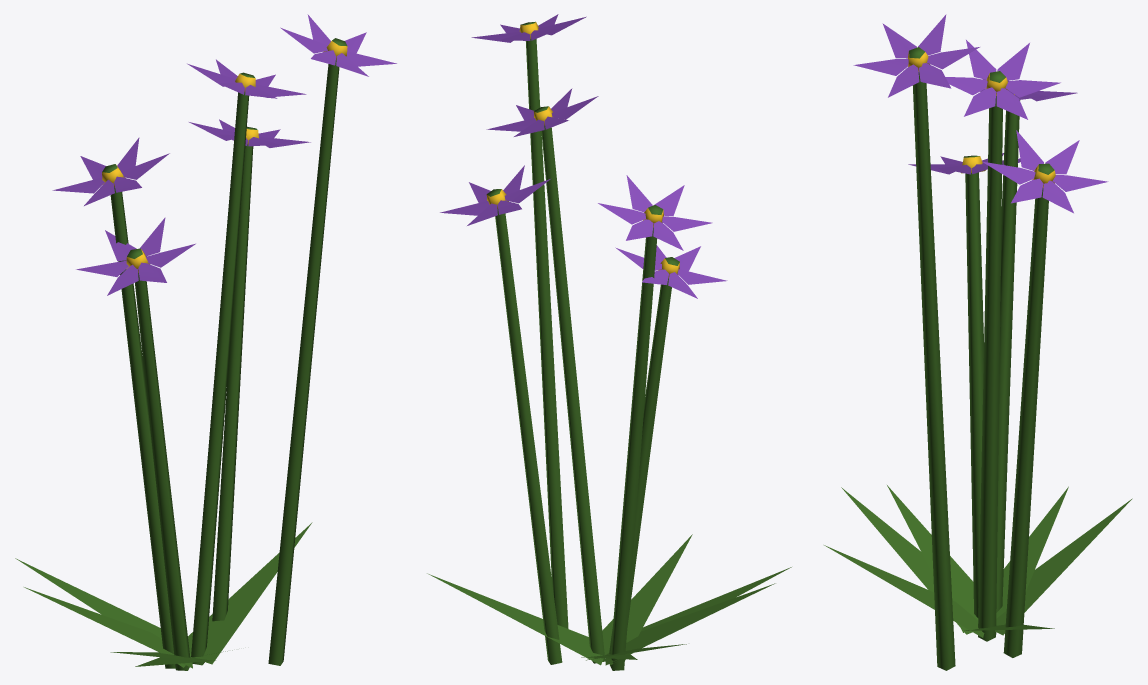
The model's file is n-flowerPurple.glb.
The picture shows the model from 3 angles, left to right: view 1: azimuth 30°, elevation 25°; view 2: azimuth 150°, elevation 25°; view 3: azimuth 270°, elevation 25°; orthographic projection. The views are drawn at different scales.
Visible parts, largest first — view 1: flower; view 2: flower; view 3: flower.
Part boxes in pixels (x1=…): flower: x1=15, y1=14, x2=396, y2=670; flower: x1=427, y1=14, x2=791, y2=670; flower: x1=824, y1=14, x2=1132, y2=670.
Bounding box in the file's own units: 0.4556 × 0.9507 × 0.4092.
